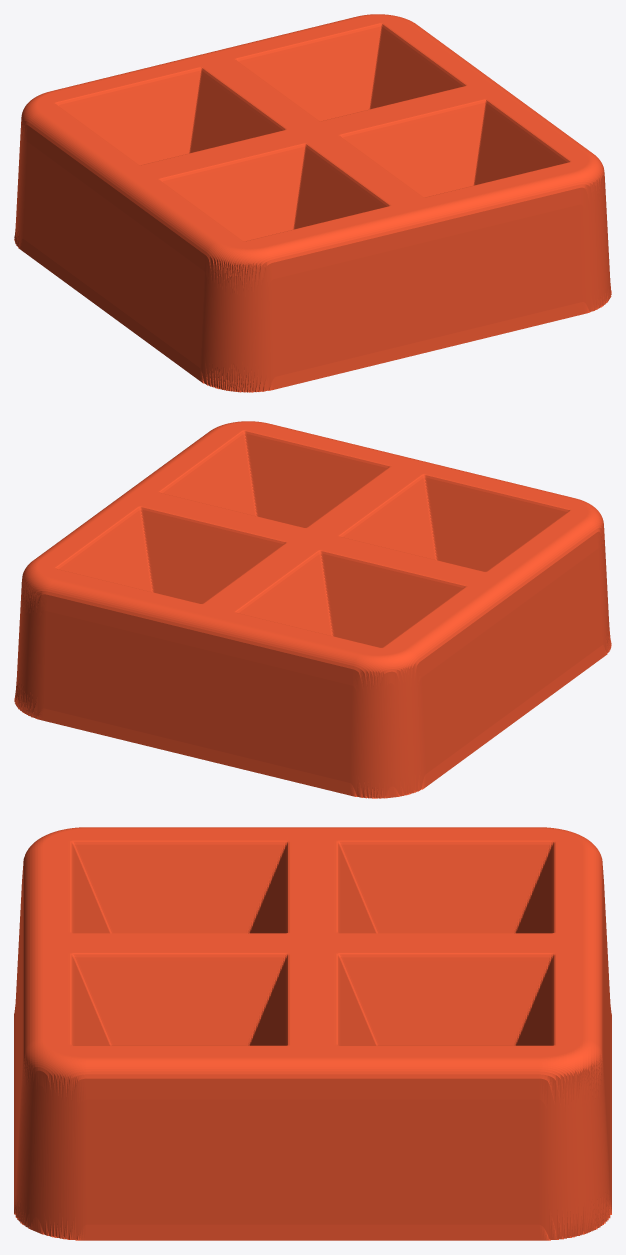
File: mold.glb
3 renders of one model, top to bottom at view 1: azimuth 30°, elevation 25°; view 2: azimuth 150°, elevation 25°; view 3: azimuth 270°, elevation 25°, orthographic. The views are drawn at different scales.
Visible parts, largest first — view 1: geometry_0; view 2: geometry_0; view 3: geometry_0.
Part boxes in pixels (x1,y1,x2,y2): geometry_0: (14, 14, 611, 392); geometry_0: (14, 421, 611, 798); geometry_0: (14, 827, 611, 1240).
Bounding box in the file's own units: 0.0746 × 0.0236 × 0.0746.
